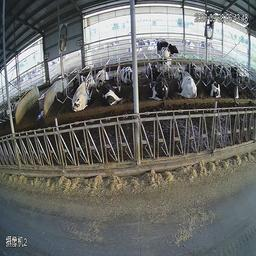cow: (67, 68, 98, 117), (173, 63, 203, 106), (144, 61, 168, 106), (100, 70, 125, 110), (153, 32, 174, 69), (205, 66, 227, 101), (224, 70, 245, 97), (121, 54, 133, 85)
